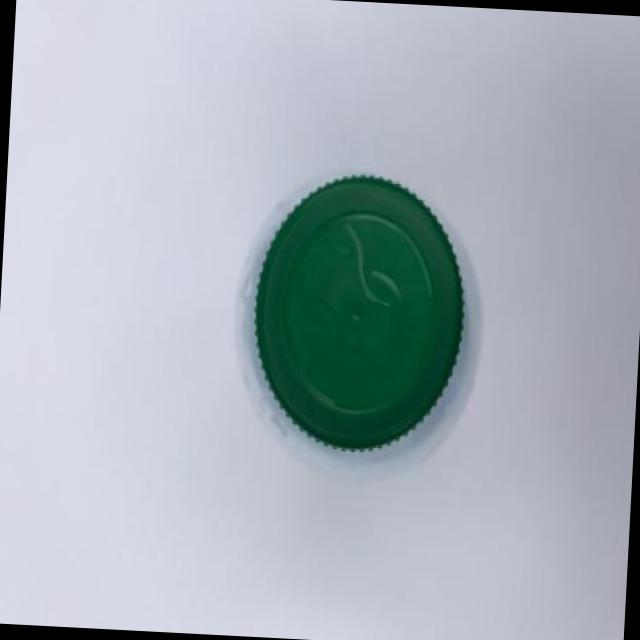Trash: (230, 160, 510, 462)
